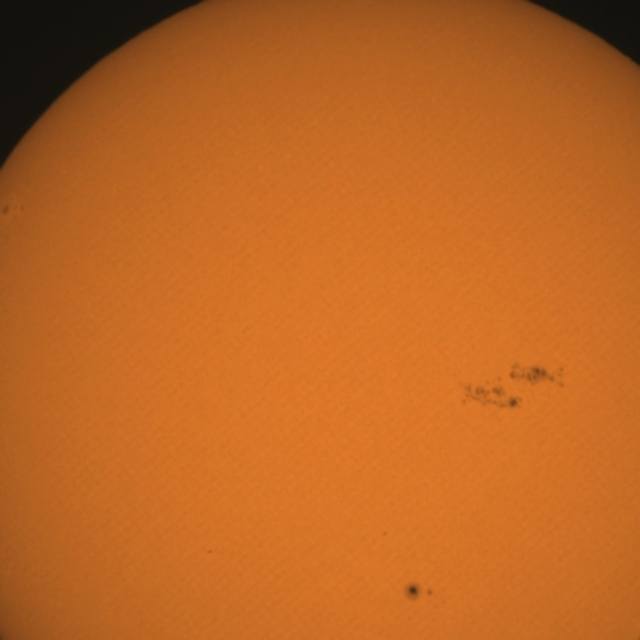sunspot: (453, 374, 534, 413), (498, 360, 570, 396), (404, 582, 434, 602), (0, 202, 26, 218), (0, 202, 12, 217), (380, 529, 390, 539), (205, 548, 214, 556)
